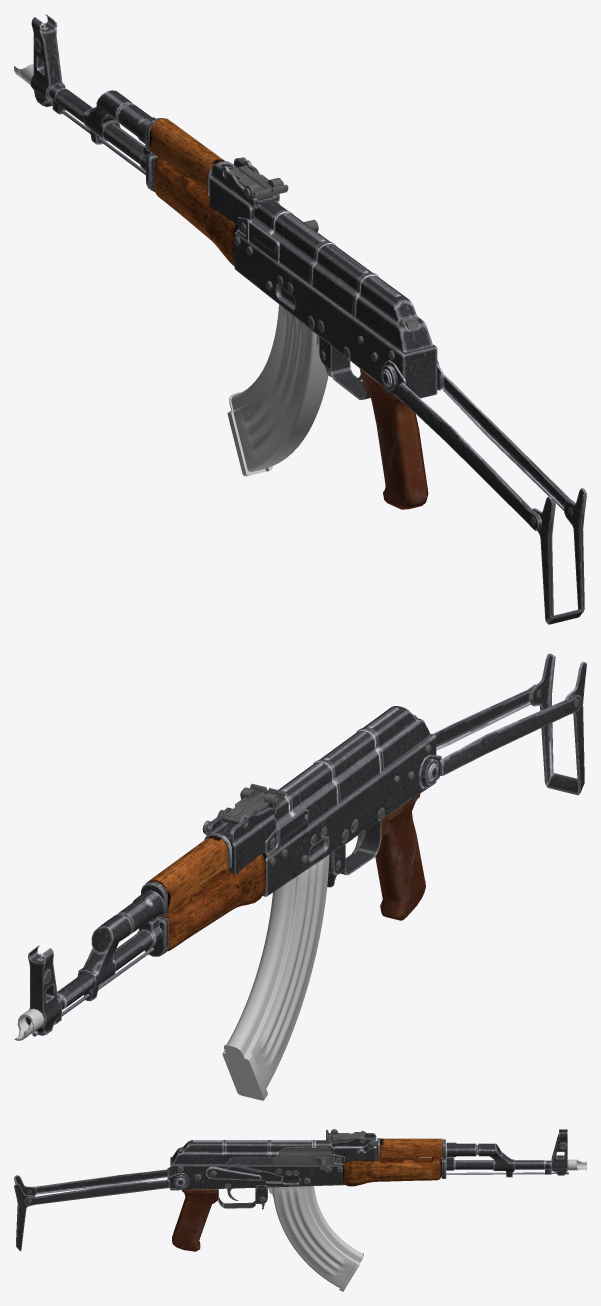
Rendered from AKMS.fbx.
3 renders of one model, top to bottom at view 1: azimuth 30°, elevation 25°; view 2: azimuth 150°, elevation 25°; view 3: azimuth 270°, elevation 25°, orthographic. The views are drawn at different scales.
Visible parts, largest first — view 1: Cube.032, Cube.008, Cube, Cube.019, Cube.001, Cylinder.009, Cube.003, Cube.020, Cube.002, Cube.005, Cylinder.010, Cube.006 (+2 smaller); view 2: Cube.032, Cube.008, Cube, Cube.019, Cube.001, Cube.003, Cylinder.009, Cylinder.010, Cube.020, Cube.002, Cube.005, Cube.033 (+4 smaller); view 3: Cube.032, Cube, Cube.019, Cube.008, Cube.003, Cube.001, Cylinder.009, Cube.002, Cylinder.010, Cube.011, Cube.005, Cube.009 (+3 smaller).
Boxes of the visible parts, x1=… form: Cube.032: x1=231, y1=304, x2=328, y2=472; Cube.008: x1=252, y1=199, x2=432, y2=352; Cube: x1=234, y1=232, x2=437, y2=401; Cube.019: x1=398, y1=373, x2=575, y2=530; Cube.001: x1=359, y1=368, x2=428, y2=509; Cylinder.009: x1=30, y1=14, x2=152, y2=170; Cube.003: x1=154, y1=157, x2=237, y2=266; Cube.020: x1=532, y1=488, x2=586, y2=624; Cube.002: x1=149, y1=118, x2=224, y2=192; Cube.005: x1=209, y1=158, x2=279, y2=225; Cylinder.010: x1=83, y1=90, x2=155, y2=144; Cube.006: x1=312, y1=331, x2=370, y2=399; Cube.032: x1=227, y1=854, x2=329, y2=1088; Cube.008: x1=274, y1=706, x2=431, y2=827; Cube: x1=262, y1=734, x2=436, y2=896; Cube.019: x1=432, y1=684, x2=581, y2=775; Cube.001: x1=375, y1=794, x2=425, y2=920; Cube.003: x1=158, y1=853, x2=266, y2=951; Cylinder.009: x1=25, y1=917, x2=162, y2=1035; Cylinder.010: x1=77, y1=890, x2=164, y2=1001; Cube.020: x1=530, y1=653, x2=586, y2=795; Cube.002: x1=145, y1=835, x2=228, y2=911; Cube.005: x1=207, y1=807, x2=276, y2=875; Cube.033: x1=222, y1=1044, x2=267, y2=1100; Cube.032: x1=267, y1=1186, x2=362, y2=1287; Cube: x1=170, y1=1157, x2=344, y2=1190; Cube.019: x1=24, y1=1169, x2=169, y2=1205; Cube.008: x1=172, y1=1140, x2=333, y2=1164; Cube.003: x1=342, y1=1154, x2=441, y2=1186; Cube.001: x1=172, y1=1189, x2=218, y2=1251; Cylinder.009: x1=446, y1=1129, x2=568, y2=1175; Cube.002: x1=380, y1=1138, x2=442, y2=1157; Cylinder.010: x1=446, y1=1142, x2=514, y2=1177; Cube.011: x1=206, y1=1164, x2=283, y2=1183; Cube.005: x1=331, y1=1130, x2=376, y2=1160; Cube.009: x1=273, y1=1148, x2=333, y2=1163.
Size of the model in its own units: 32.17 by 141 by 464.
